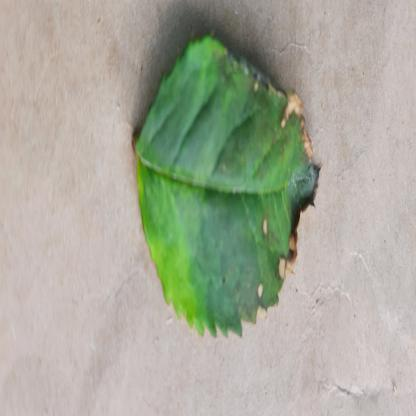powdery-mildew: (131, 33, 323, 341)
